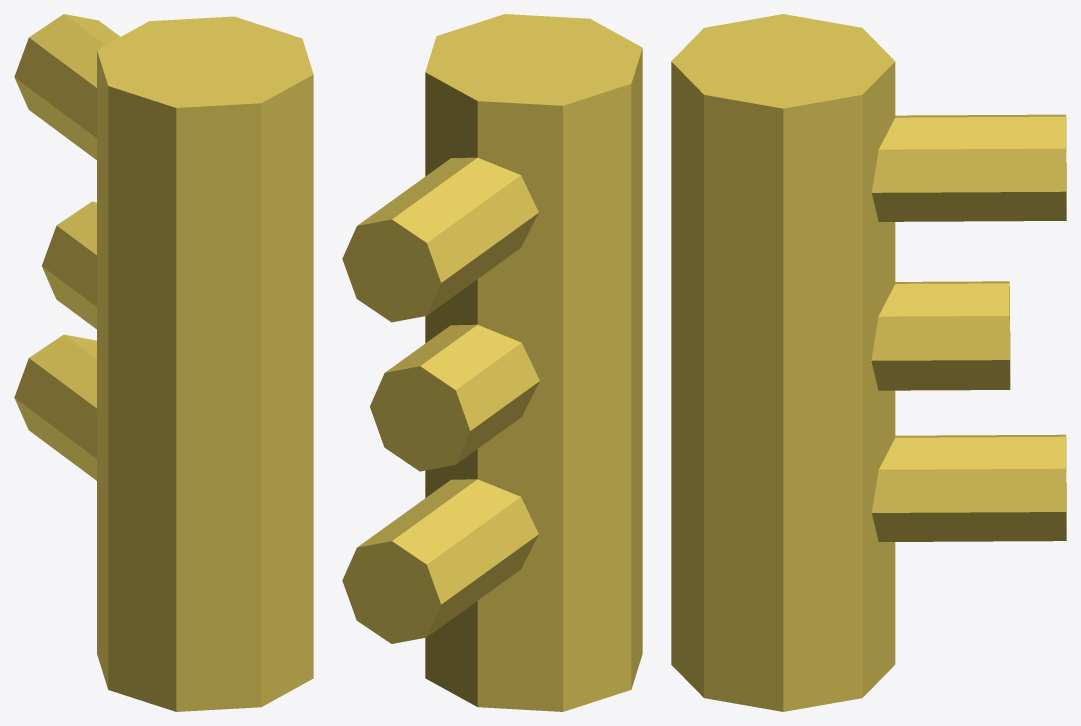
The model's file is keyfragment2.fbx.
3 renders of one model, left to right at view 1: azimuth 30°, elevation 25°; view 2: azimuth 150°, elevation 25°; view 3: azimuth 270°, elevation 25°, orthographic.
Visible parts, largest first — view 1: Cylinder; view 2: Cylinder; view 3: Cylinder.
Boxes of the visible parts, bbox=[...] form: Cylinder: bbox=[14, 14, 313, 711]; Cylinder: bbox=[342, 14, 642, 711]; Cylinder: bbox=[671, 14, 1066, 711].
Bounding box in the file's own units: 3 × 8.91 × 5.3.
